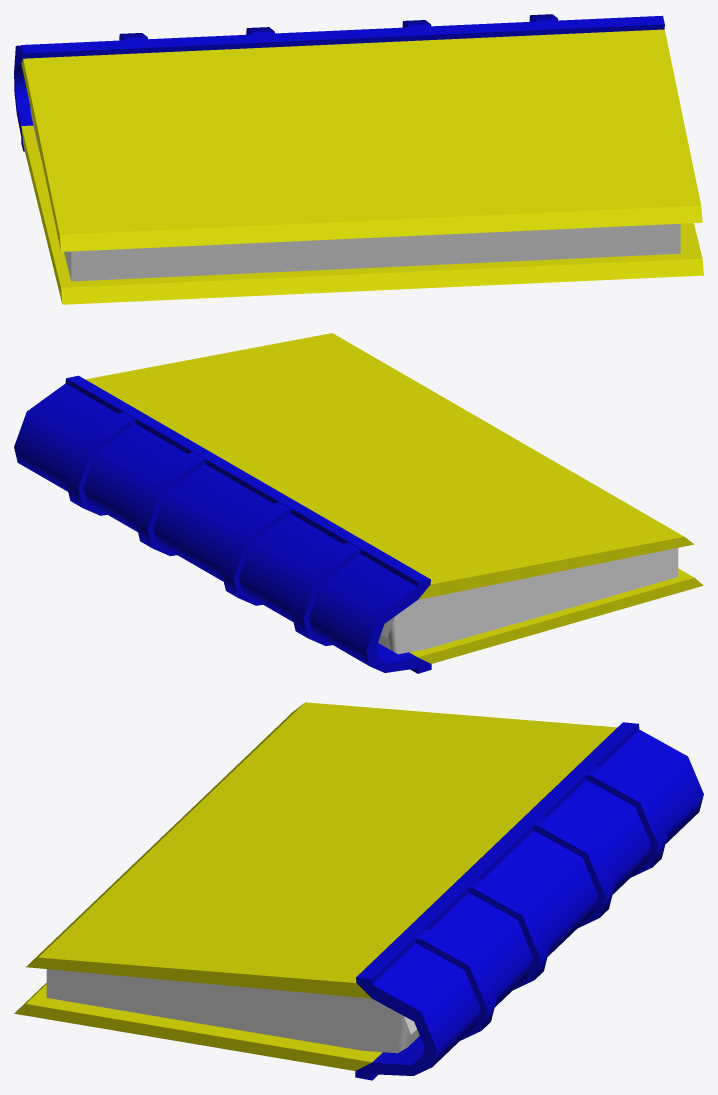
Rendered from SM_Notebook_003.fbx.
3 renders of one model, top to bottom at view 1: azimuth 30°, elevation 25°; view 2: azimuth 150°, elevation 25°; view 3: azimuth 270°, elevation 25°, orthographic. The views are drawn at different scales.
Parts seen in each view (by area): view 1: Notebooks_003; view 2: Notebooks_003; view 3: Notebooks_003.
Part boxes in pixels (x1,y1,x2,y2): Notebooks_003: (14,14,703,304); Notebooks_003: (14,333,703,673); Notebooks_003: (14,702,703,1080).
Bounding box in the file's own units: 27.04 × 3.83 × 23.58.
